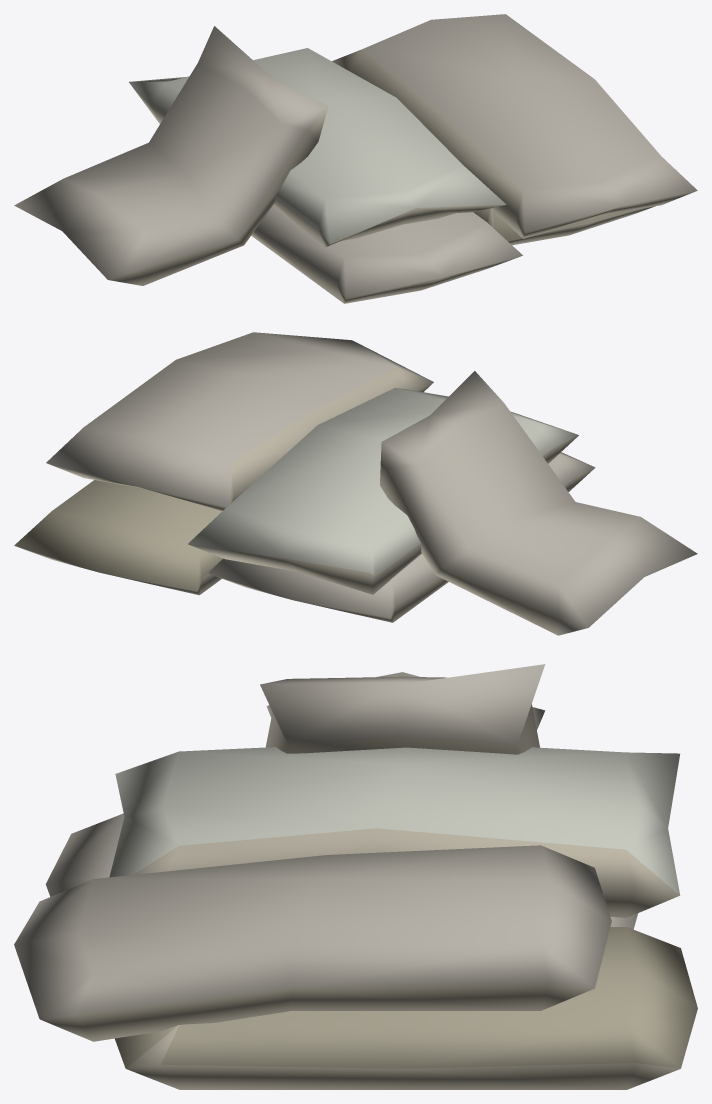
Rendered from sack.glb.
3 renders of one model, top to bottom at view 1: azimuth 30°, elevation 25°; view 2: azimuth 150°, elevation 25°; view 3: azimuth 270°, elevation 25°, orthographic. The views are drawn at different scales.
Parts seen in each view (by area): view 1: sack_texture_0; view 2: sack_texture_0; view 3: sack_texture_0.
Part boxes in pixels (x1,y1,x2,y2): sack_texture_0: (14,14,697,303); sack_texture_0: (14,332,697,635); sack_texture_0: (14,664,697,1089).
Size of the model in its own units: 1.62 by 0.5073 by 1.34.
Materials: 1 (1 with a texture image).
